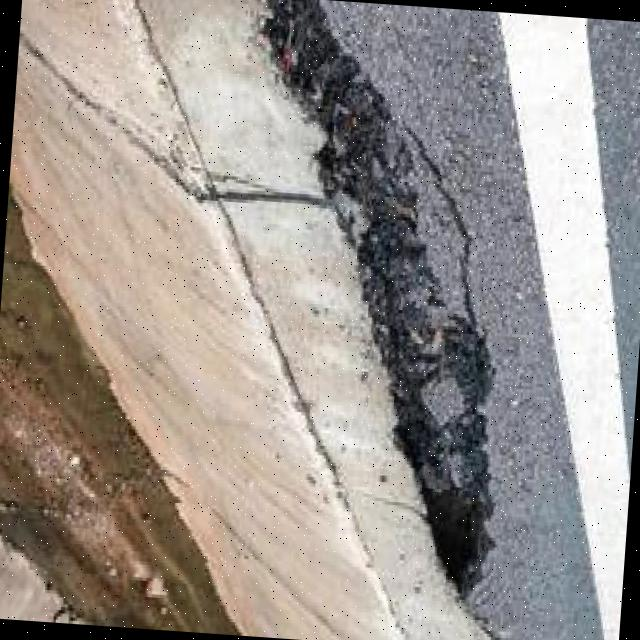road collapse: (123, 1, 640, 632)
